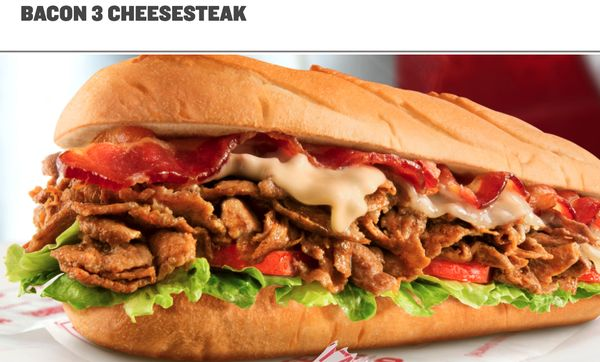soup: (19, 53, 599, 358)
